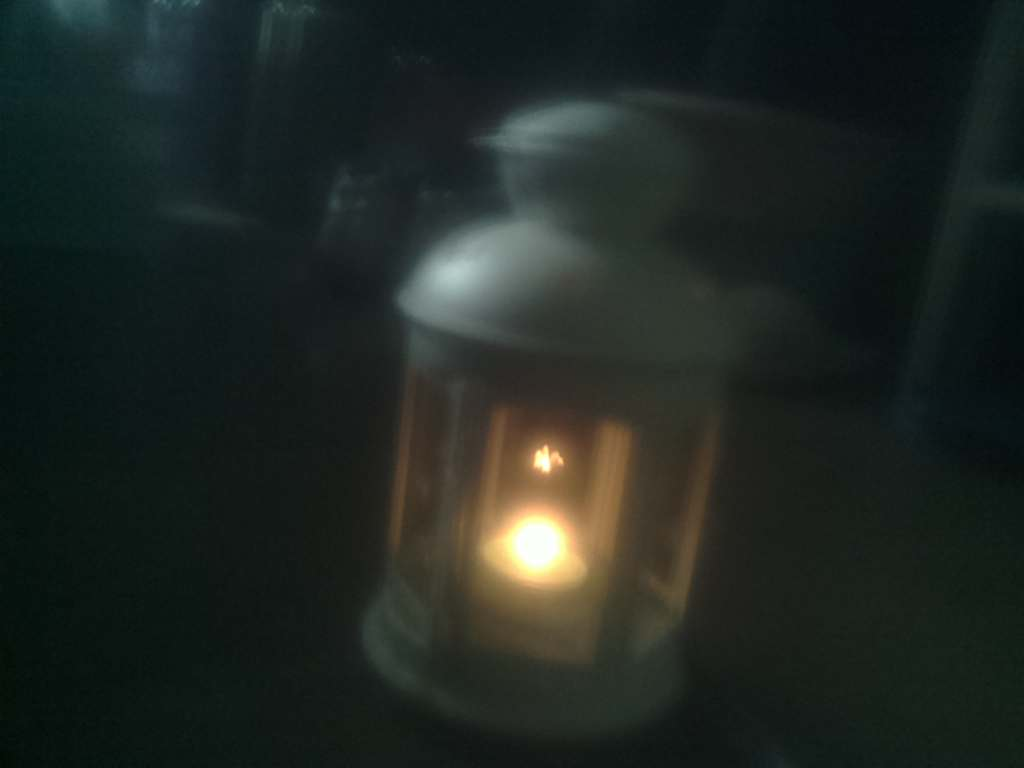fire: (479, 494, 592, 604)
